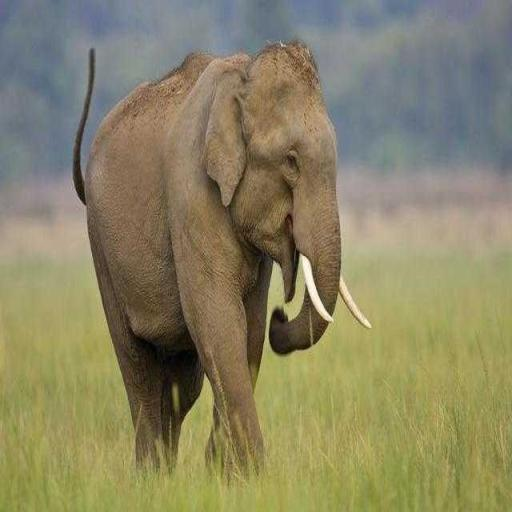Elephant: (71, 38, 372, 488)
